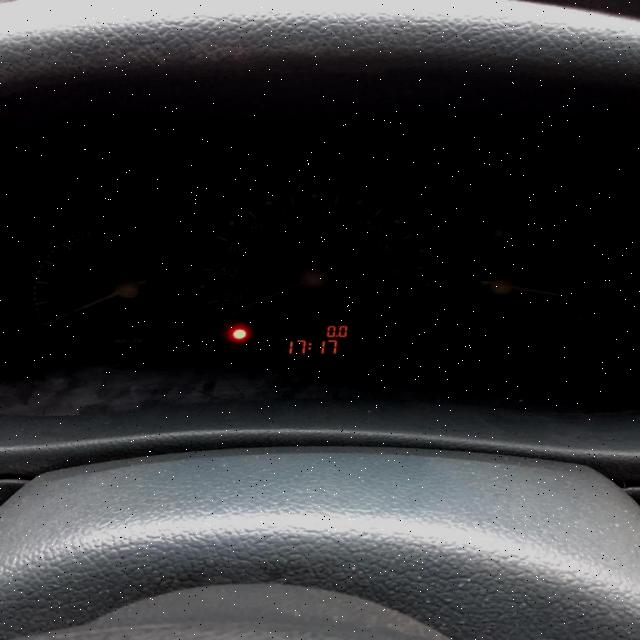odometer: (270, 316, 356, 358)
